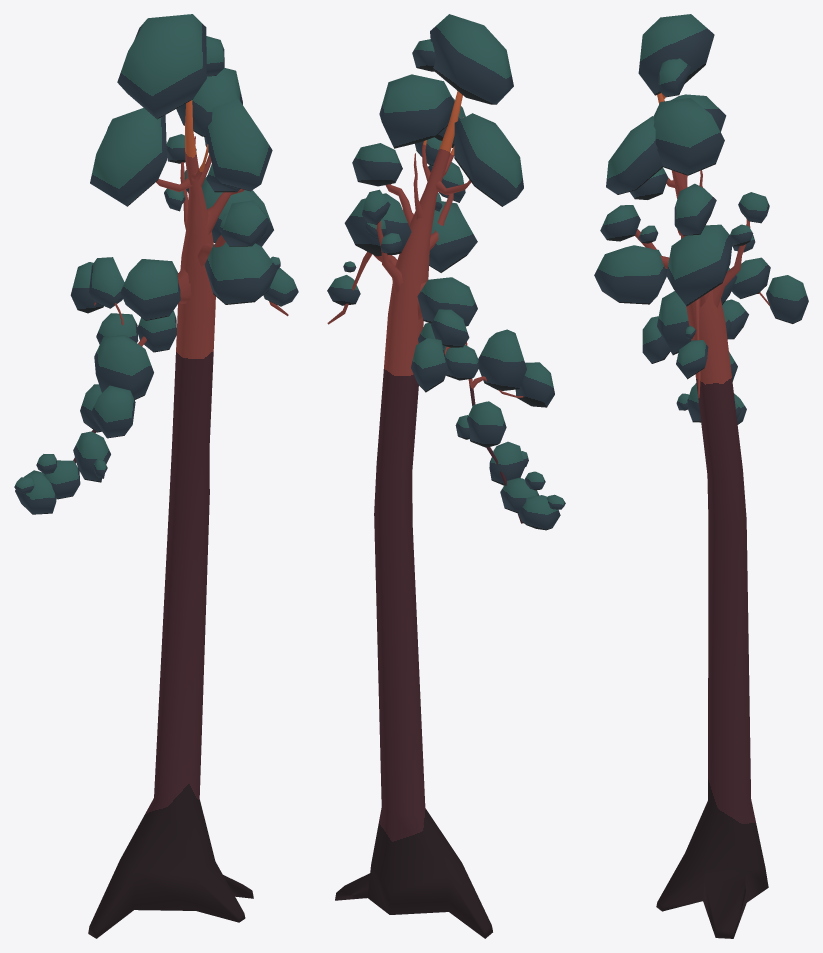
Rendered from tree03.glb.
3 renders of one model, left to right at view 1: azimuth 30°, elevation 25°; view 2: azimuth 150°, elevation 25°; view 3: azimuth 270°, elevation 25°, orthographic. The views are drawn at different scales.
Parts seen in each view (by area): view 1: Tree03; view 2: Tree03; view 3: Tree03.
Part boxes in pixels (x1,y1,x2,y2): Tree03: (14,14,298,938); Tree03: (327,14,565,938); Tree03: (594,14,808,938).
Size of the model in its own units: 13.92 by 47.02 by 10.45.
1 material, 1 textured.
